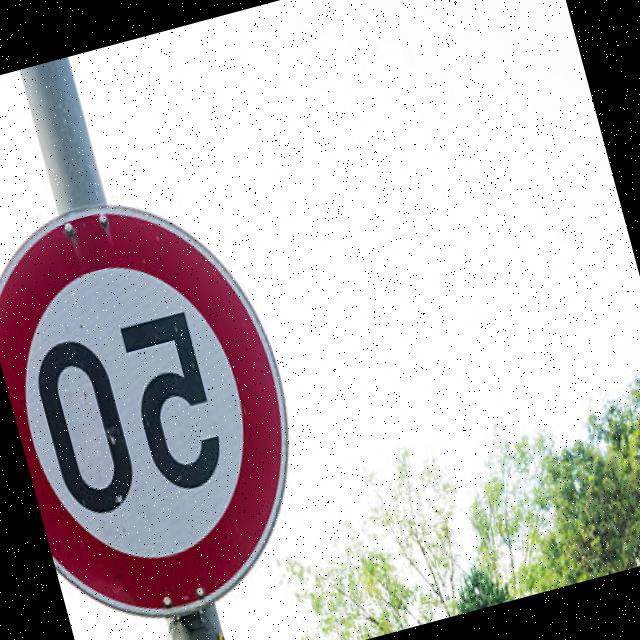speed_limit_50: (0, 161, 348, 640)
